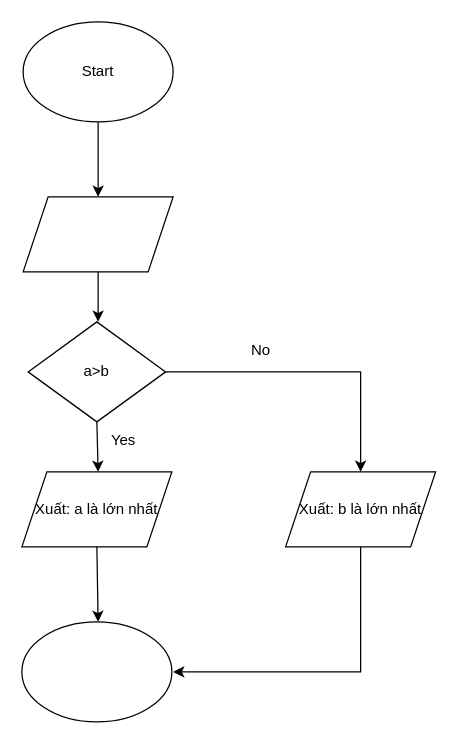
Some shapes in this 458 by 744 pixel diagram are drawn without their labels. The shapes that lost their labels are listed below. From the top down, each one's centre as x and y in pixels, then its label:
point 97,234: Nhập 2 số a,b
point 96,671: End
